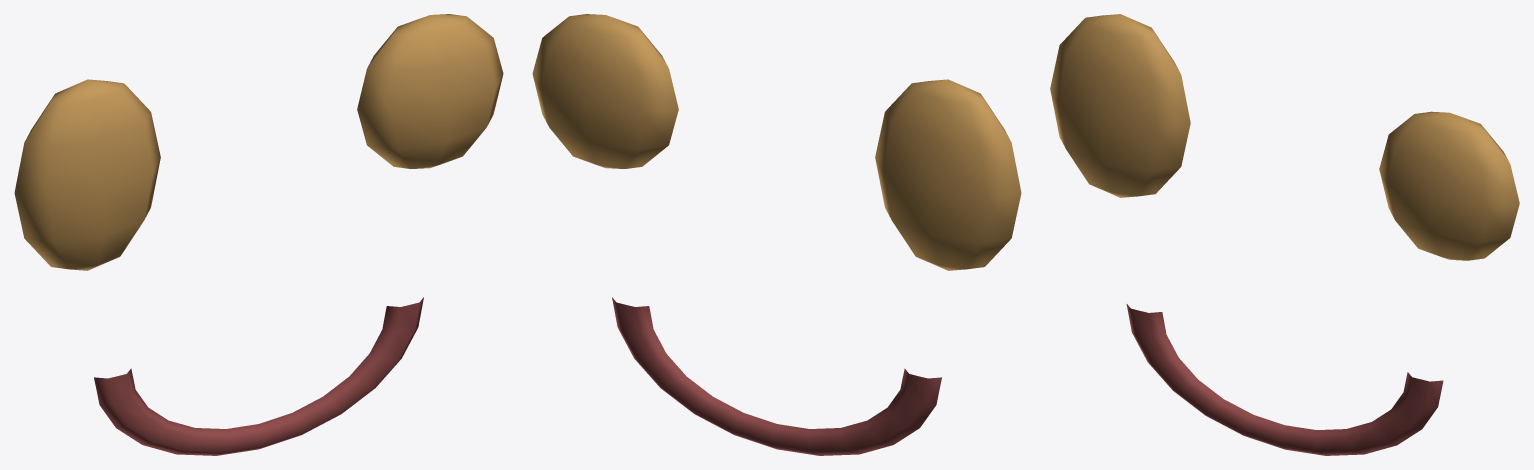
The model's file is carpenter_face.glb.
3 renders of one model, left to right at view 1: azimuth 30°, elevation 25°; view 2: azimuth 150°, elevation 25°; view 3: azimuth 330°, elevation 25°, orthographic. The views are drawn at different scales.
Visible parts, largest first — view 1: eye_l, eye_r, mouth; view 2: eye_l, eye_r, mouth; view 3: eye_l, eye_r, mouth.
Boxes of the visible parts, x1,y1,x2,y2 form: eye_l: (14,79,160,270); eye_r: (357,14,503,168); mouth: (94,297,423,455); eye_l: (875,79,1021,270); eye_r: (532,14,678,168); mouth: (612,297,941,455); eye_l: (1050,14,1190,197); eye_r: (1379,111,1519,260); mouth: (1126,304,1443,455).
Size of the model in its own units: 0.314 by 0.2526 by 0.0423.
